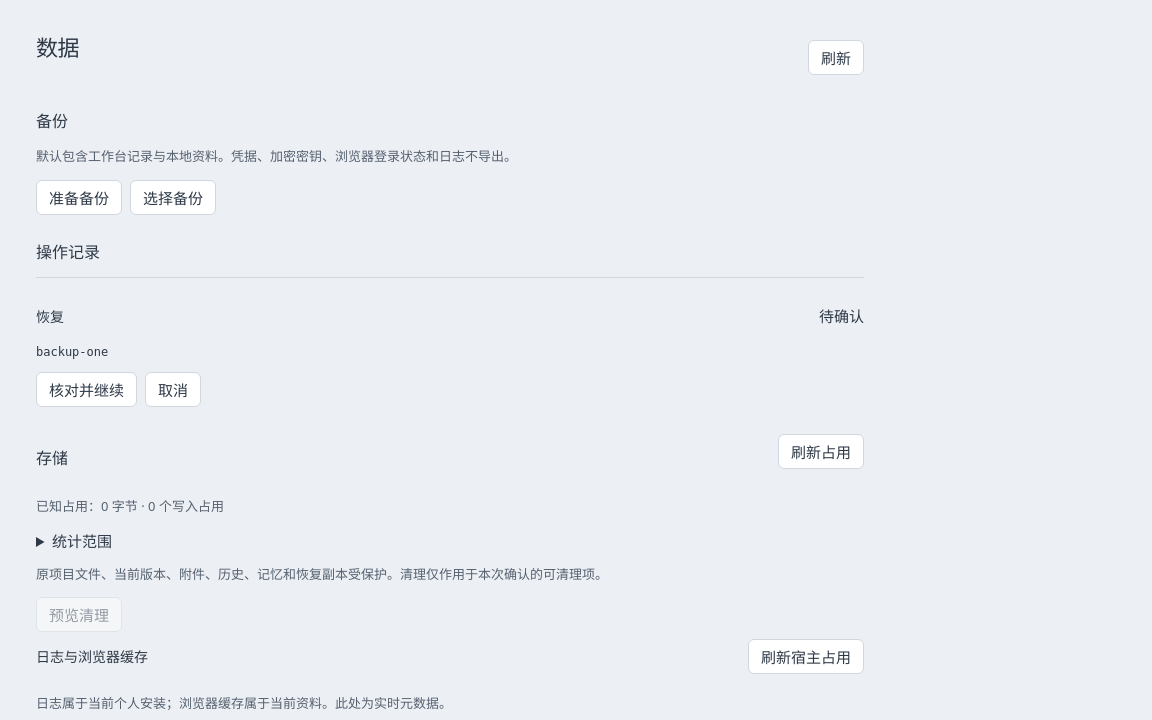
Scenario: 恢复预览列出新旧资料和保留位置，失败不会显示恢复成功
Step 1. Click the button "核对并继续" → (86, 389), box [36,372,137,407]
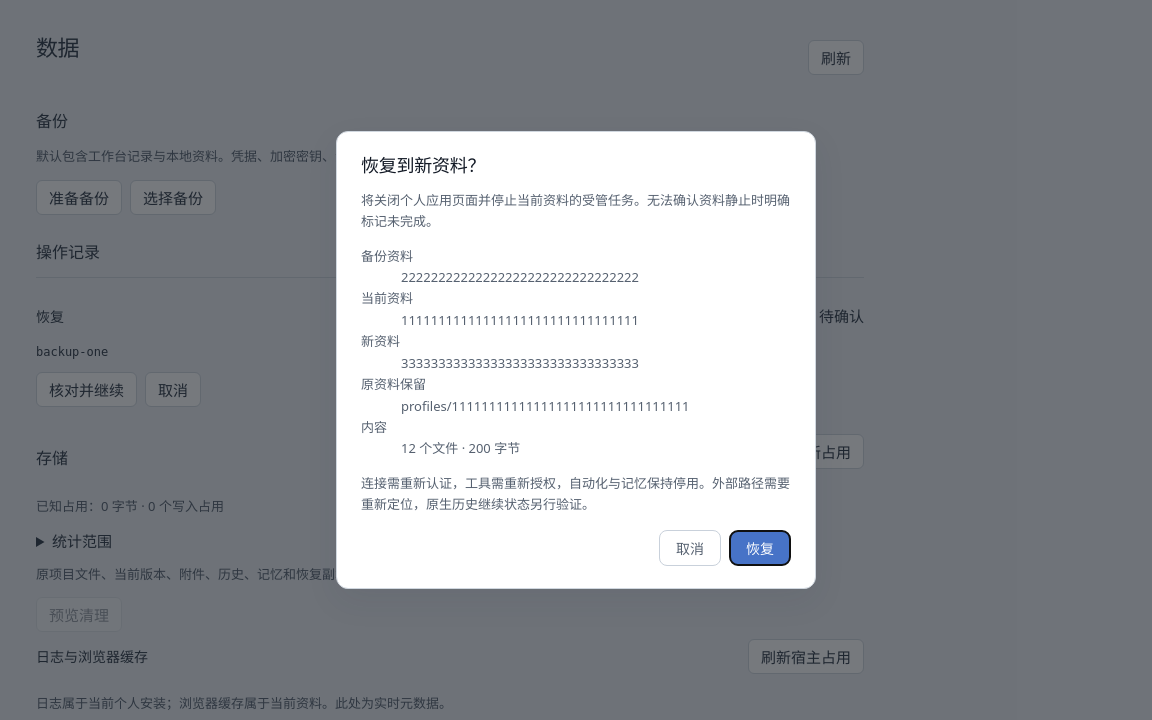
Step 2. Click the button "恢复" → (760, 548), box [729,530,791,566]
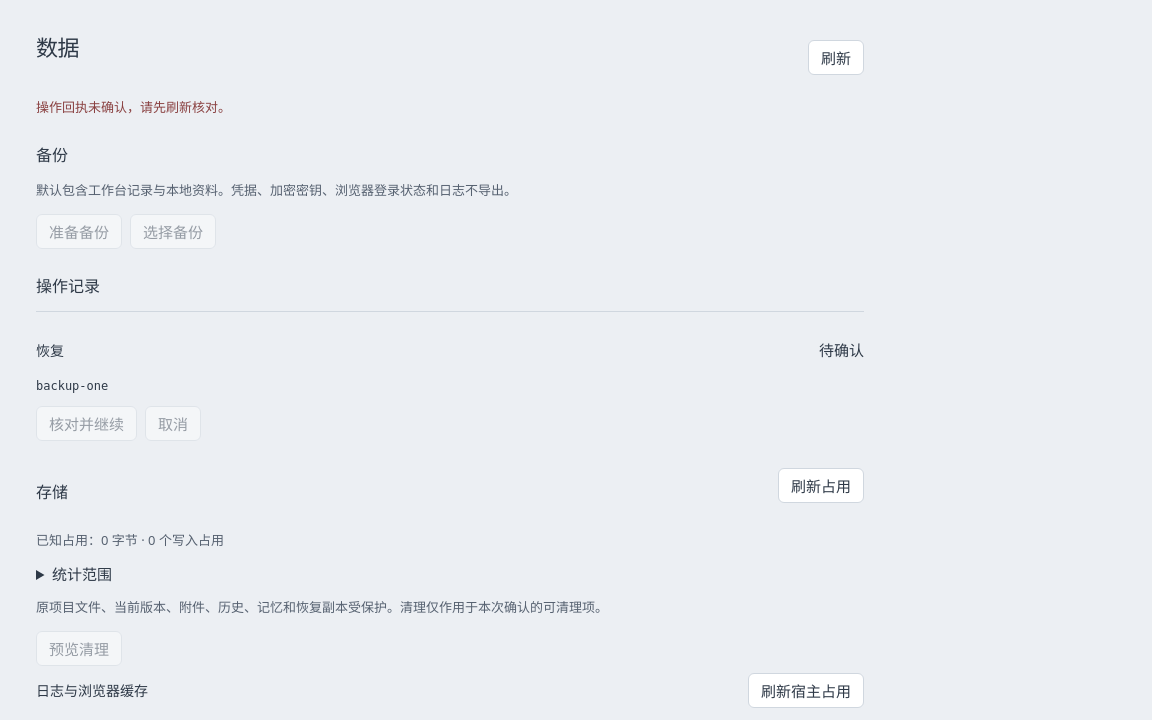
Check: the message "操作回执未确认，请先刷新核对。" is shown, box [36,98,231,116]
